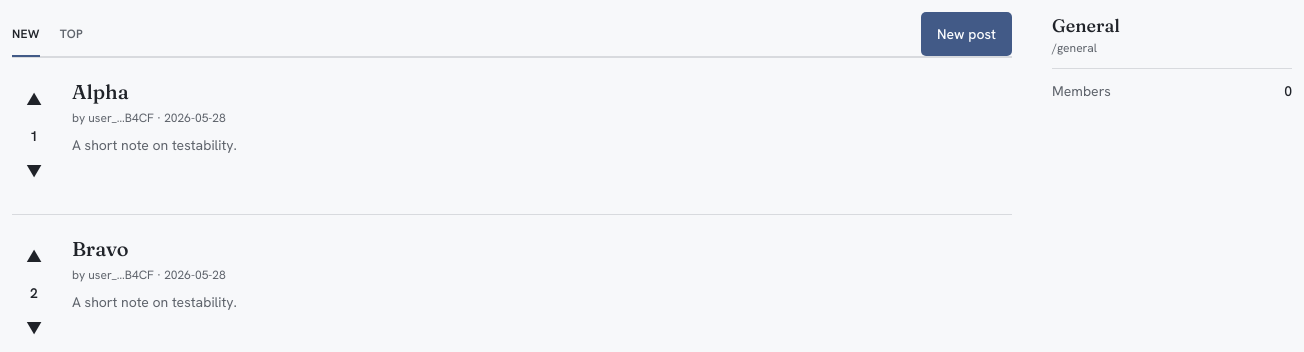
Test: upvoting a post patches only that post score, leaving its sibling untouched
The width and height of the screenshot is (1304, 352).
Expected: the link "Alpha" is shown, [72, 79, 129, 104]
Click the button named "Upvote" at coordinates (34, 100), box [12, 78, 56, 122]
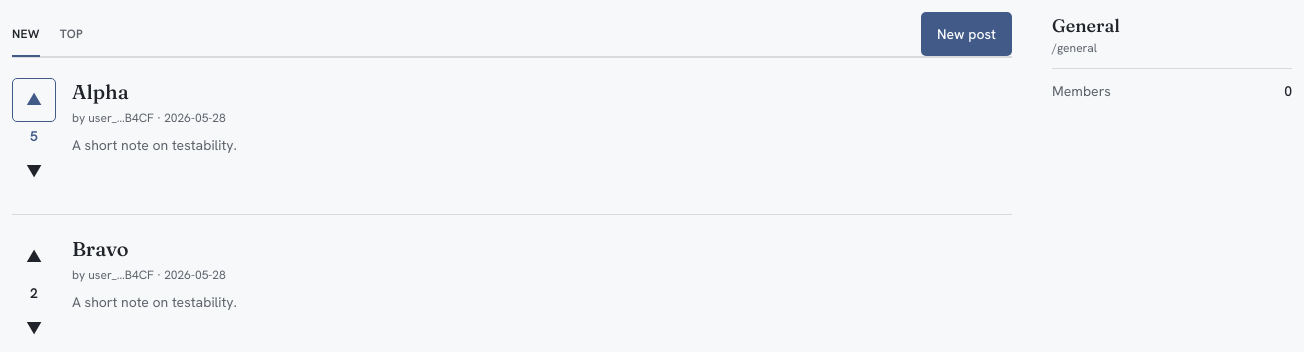
Result: the text "5" is shown at [30, 127, 38, 145]
